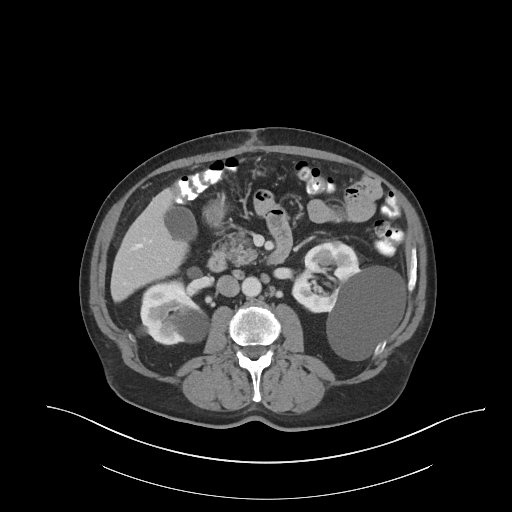Lesion: (329, 239, 344, 250)
